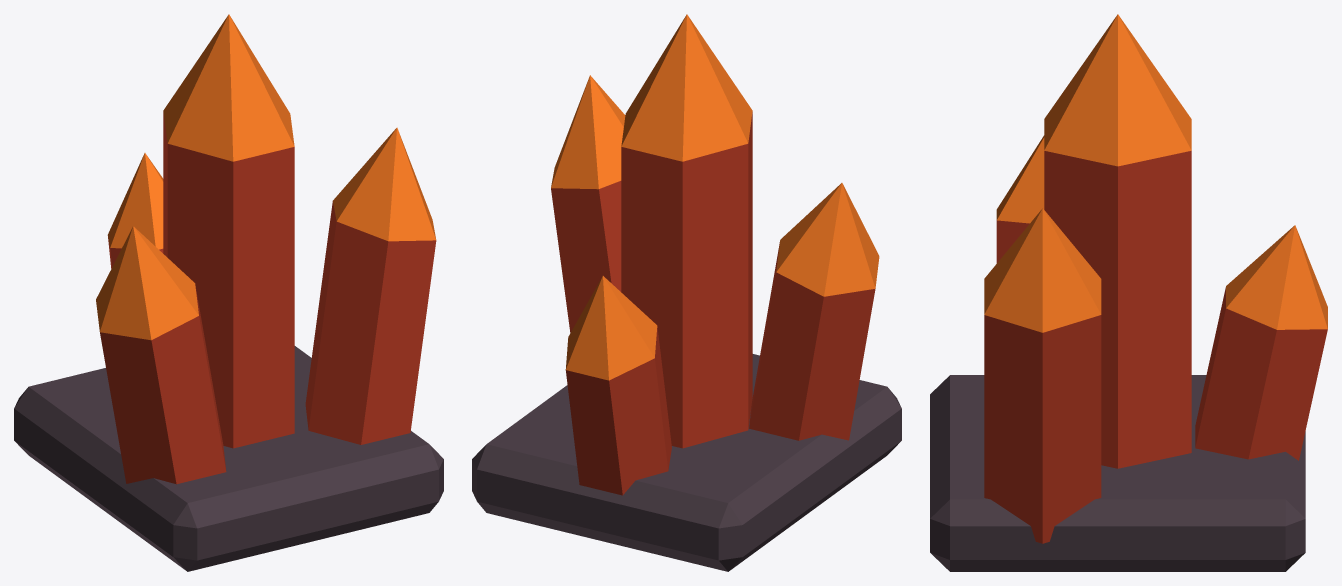
Rendered from env_r3_ember_crystal.glb.
The picture shows the model from 3 angles, left to right: view 1: azimuth 30°, elevation 25°; view 2: azimuth 150°, elevation 25°; view 3: azimuth 270°, elevation 25°; orthographic projection. The views are drawn at different scales.
Visible parts, largest first — view 1: env_r3_ember_crystal; view 2: env_r3_ember_crystal; view 3: env_r3_ember_crystal.
Boxes of the visible parts, left/top/right/bottom form: env_r3_ember_crystal: left=14, top=14, right=443, bottom=571; env_r3_ember_crystal: left=472, top=14, right=901, bottom=571; env_r3_ember_crystal: left=930, top=14, right=1327, bottom=571.
Bounding box in the file's own units: 1.6 × 2.2 × 1.6.
Materials: 1 (1 with a texture image).
